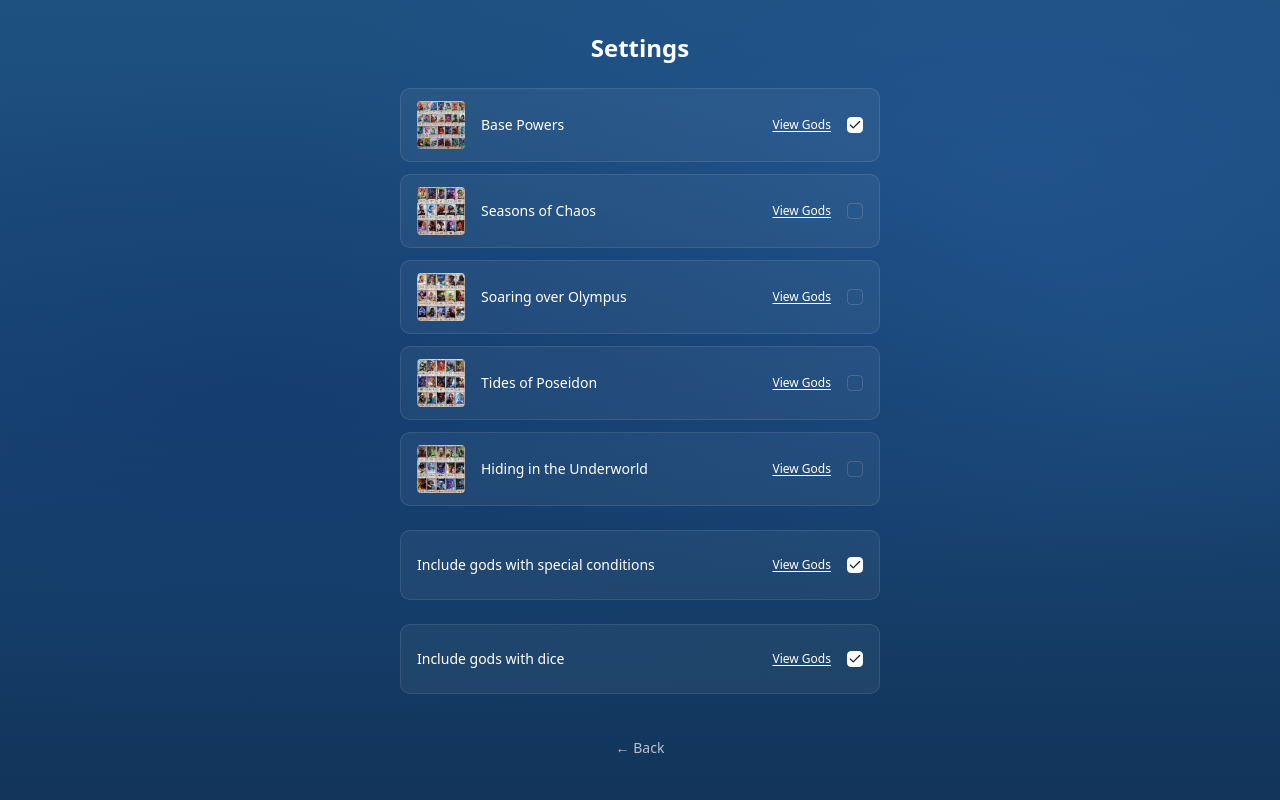
Given the settings screen when the user deselects all expansions › when the user unchecks the only active expansion, then the Back button becomes disabled
Click the checkbox named "toggle base powers" at (855, 125), box [847, 117, 863, 133]
(page scrolled)
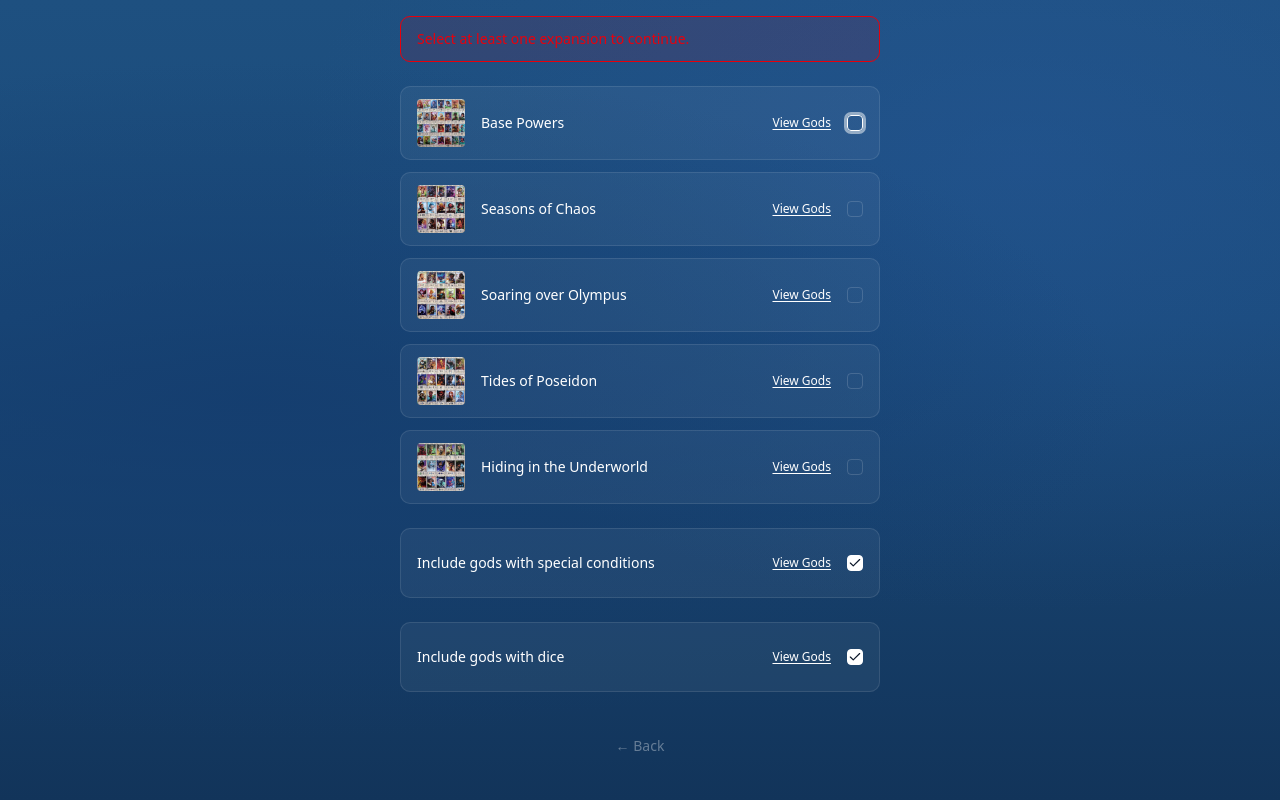
Now the button "← Back" is disabled, box [599, 724, 681, 768]
